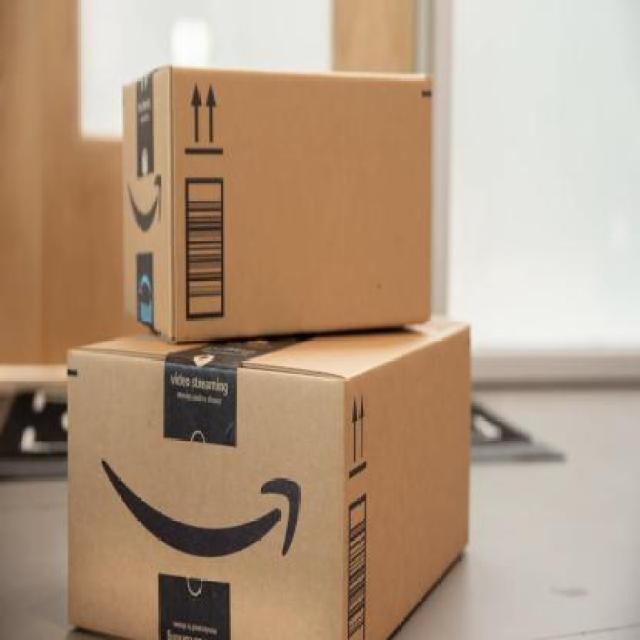cardboxes: (68, 312, 470, 638), (122, 62, 433, 344)
